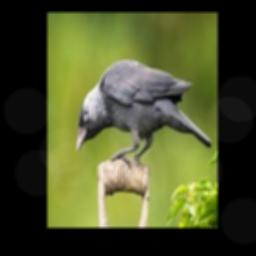Crow: (77, 58, 213, 168)
